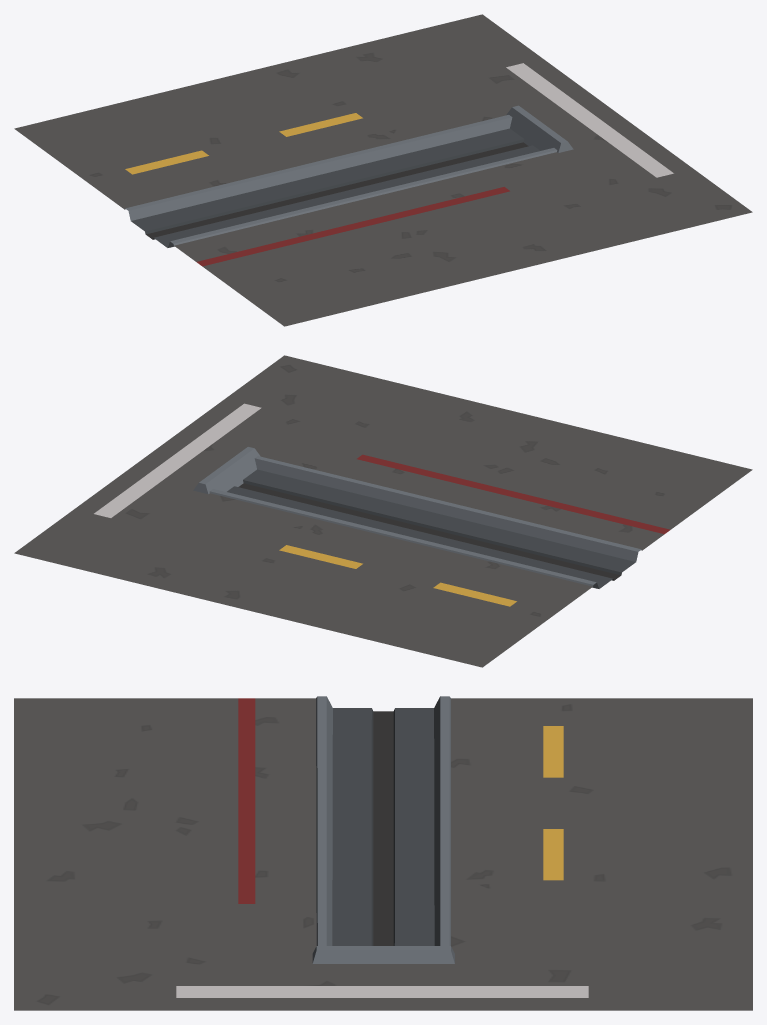
Rendered from SM_Env_Ground_Rail_End_01.fbx.
3 renders of one model, top to bottom at view 1: azimuth 30°, elevation 25°; view 2: azimuth 150°, elevation 25°; view 3: azimuth 270°, elevation 25°, orthographic. The views are drawn at different scales.
Parts seen in each view (by area): view 1: SM_Env_Ground_Rail_End_01; view 2: SM_Env_Ground_Rail_End_01; view 3: SM_Env_Ground_Rail_End_01.
Part boxes in pixels (x1,y1,x2,y2): SM_Env_Ground_Rail_End_01: (14,14,752,326); SM_Env_Ground_Rail_End_01: (14,355,752,667); SM_Env_Ground_Rail_End_01: (14,696,752,1010).
Bounding box in the file's own units: 1000 × 36.33 × 1000.
